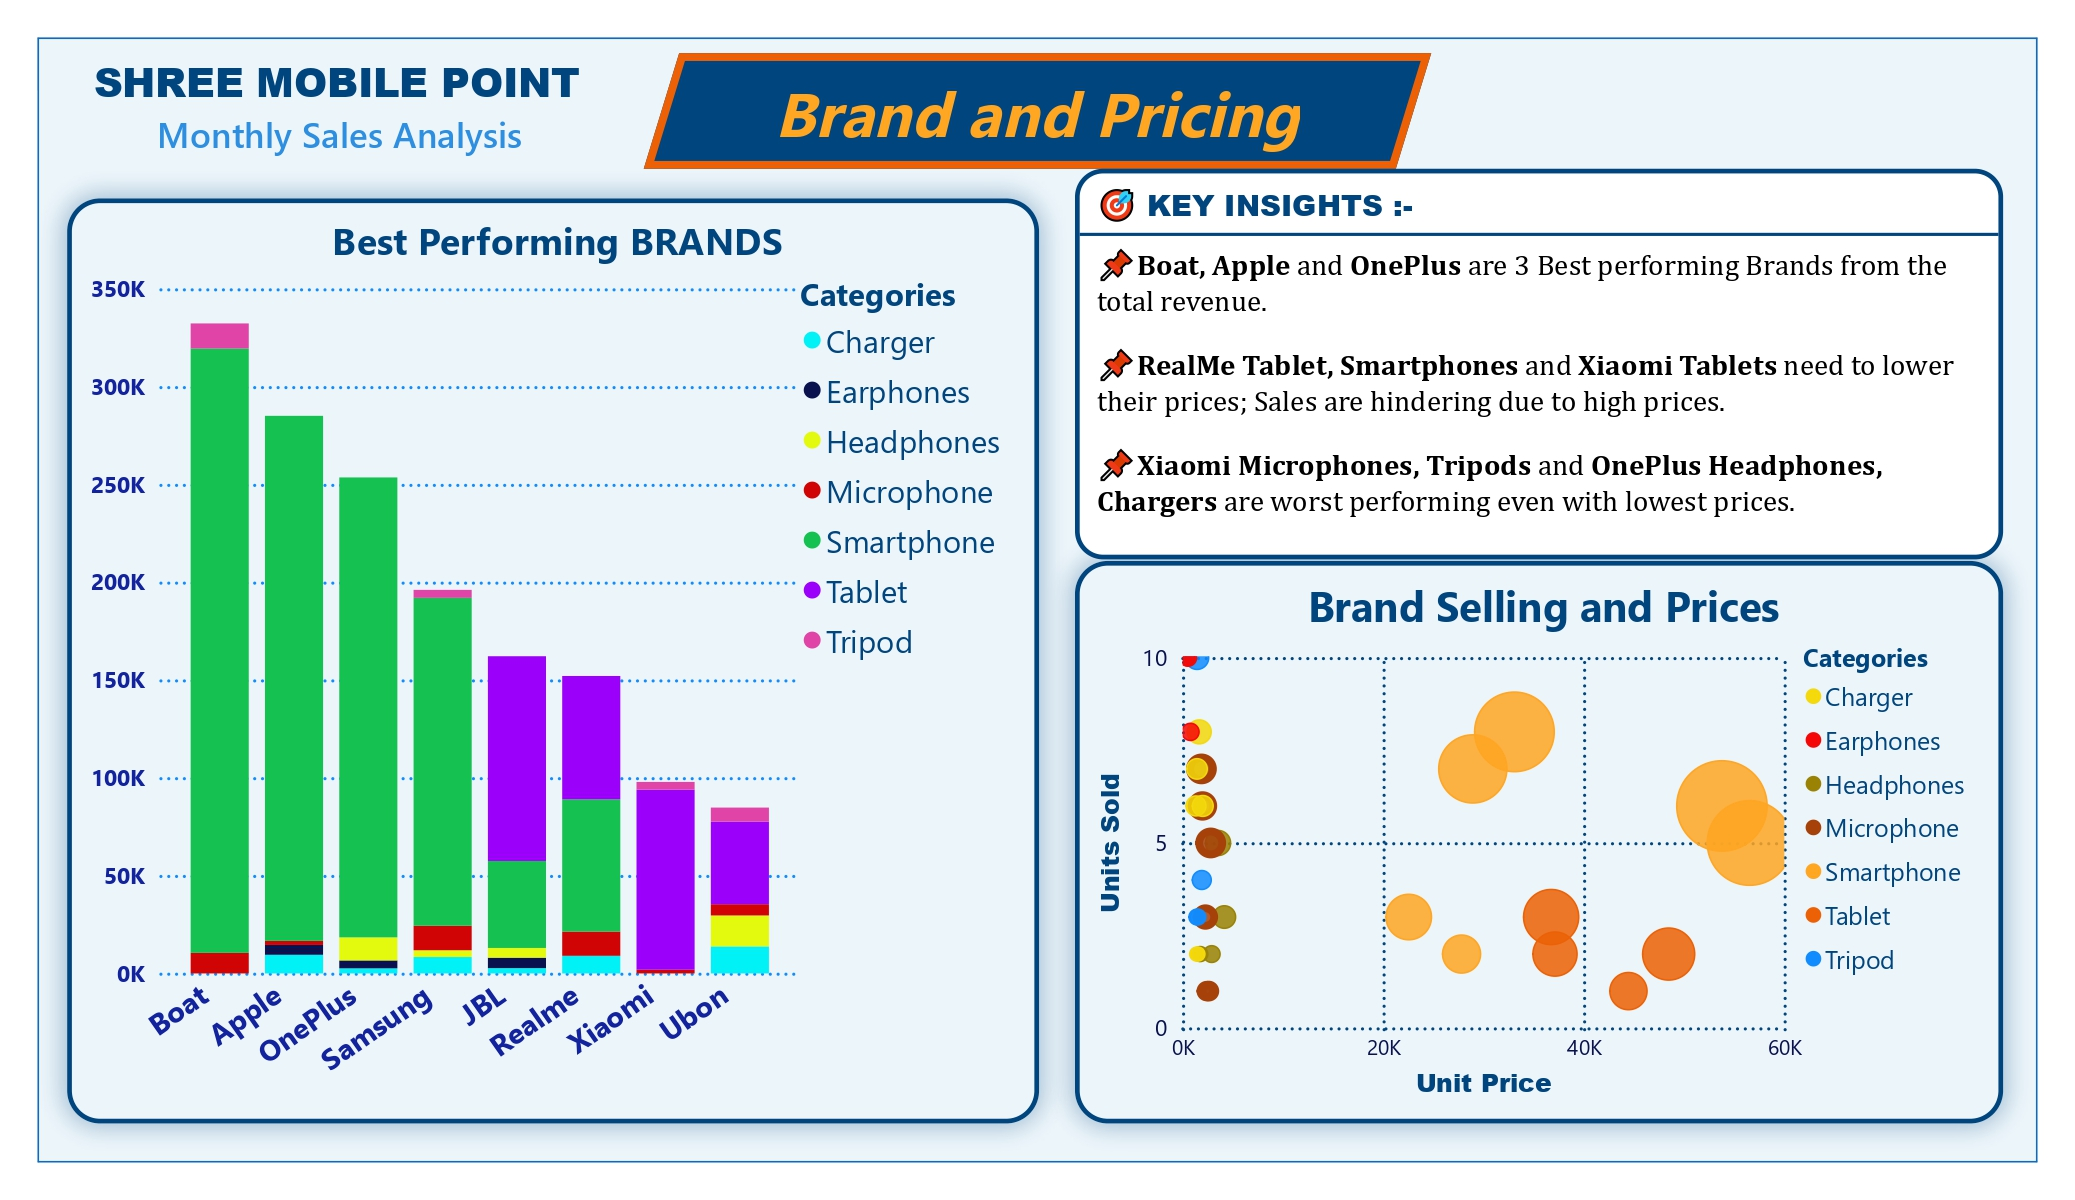

The dashboard page shown, as its layout file describes it:
{"tool":"powerbi","page":{"name":"Brand and Pricing","canvas":[1280,720],"ordinal":2},"visuals":[{"type":"shape","box":[0,0,1279.8,720],"z":0},{"type":"textbox","title":"SHREE MOBILE POINT","box":[30.9,10.3,326.2,36.7],"z":1000},{"type":"textbox","title":"Monthly Sales Analysis","box":[55.8,47,274.8,36.7],"z":2000},{"type":"shape","box":[387.9,10.3,504,73.5],"z":3000},{"type":"columnChart","title":"Best Performing BRANDS","fields":{"Category":["Sales.Brand"],"Y":["Sales.Total Revenue"],"Series":["Sales.Product Category"]},"box":[19.1,102.9,621.6,592.2],"z":4000},{"type":"scatterChart","title":"Brand Selling and Prices","fields":{"Y":["Sales.Units Sold"],"X":["Avg(Sales.Unit Price (INR))"],"Size":["Sales.Total Revenue"],"Category":["Sales.Brand"],"Series":["Sales.Product Category"]},"box":[664.2,335,593.6,360],"z":5000},{"type":"textbox","title":"🎯 KEY INSIGHTS :-","box":[664.2,83.8,593.6,249.8],"z":6000}]}

Visuals, with their boxes on the page's 1280x720 design canvas (x1, y1, x2, y2). These are canvas units, not pixel positions in the 2075x1200 screenshot, which may show the page scaled, cropped or inside an application window:
shape: [left=0, top=0, right=1280, bottom=720]
"SHREE MOBILE POINT" textbox: [left=31, top=10, right=357, bottom=47]
"Monthly Sales Analysis" textbox: [left=56, top=47, right=331, bottom=84]
shape: [left=388, top=10, right=892, bottom=84]
"Best Performing BRANDS" columnChart: [left=19, top=103, right=641, bottom=695]
"Brand Selling and Prices" scatterChart: [left=664, top=335, right=1258, bottom=695]
"🎯 KEY INSIGHTS :-" textbox: [left=664, top=84, right=1258, bottom=334]
